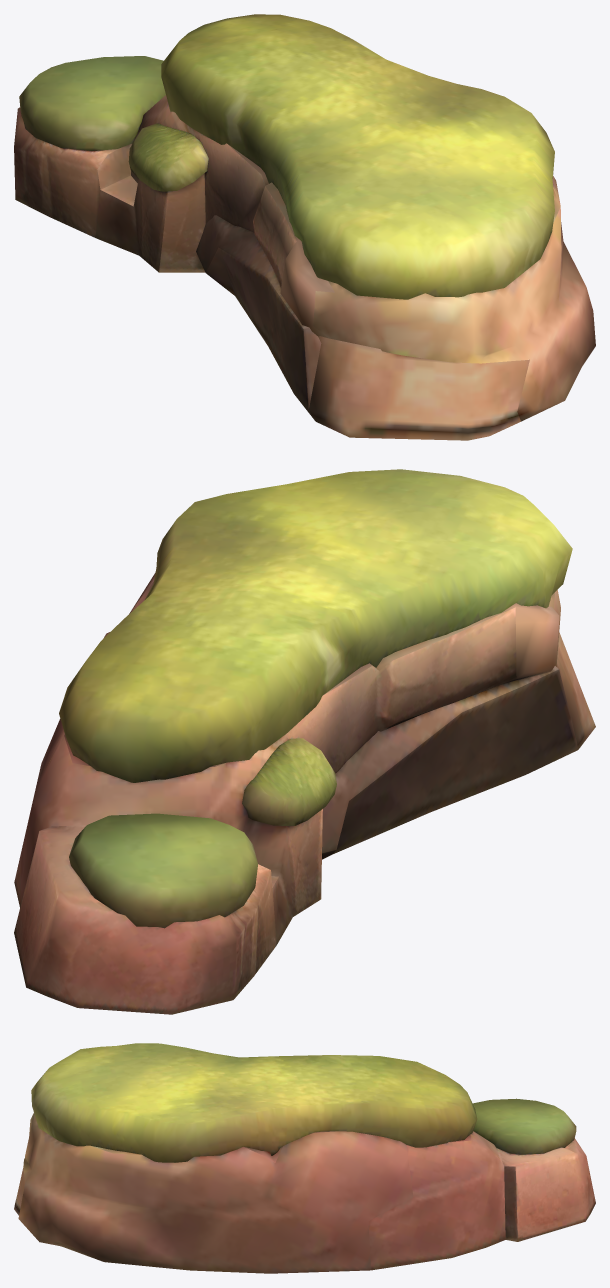
The model's file is pref_sm_4v4beachtech_bk_centerblock_L01c_lv2.fbx.
3 renders of one model, top to bottom at view 1: azimuth 30°, elevation 25°; view 2: azimuth 150°, elevation 25°; view 3: azimuth 270°, elevation 25°, orthographic. The views are drawn at different scales.
Parts seen in each view (by area): view 1: pref_sm_4v4beachtech_bk_centerblock_L01c_lv2; view 2: pref_sm_4v4beachtech_bk_centerblock_L01c_lv2; view 3: pref_sm_4v4beachtech_bk_centerblock_L01c_lv2.
Boxes of the visible parts, left/top/right/bottom form: pref_sm_4v4beachtech_bk_centerblock_L01c_lv2: left=14, top=14, right=595, bottom=440; pref_sm_4v4beachtech_bk_centerblock_L01c_lv2: left=14, top=469, right=595, bottom=1014; pref_sm_4v4beachtech_bk_centerblock_L01c_lv2: left=14, top=1043, right=595, bottom=1273.
Size of the model in its own units: 3.03 by 1.94 by 6.95.
